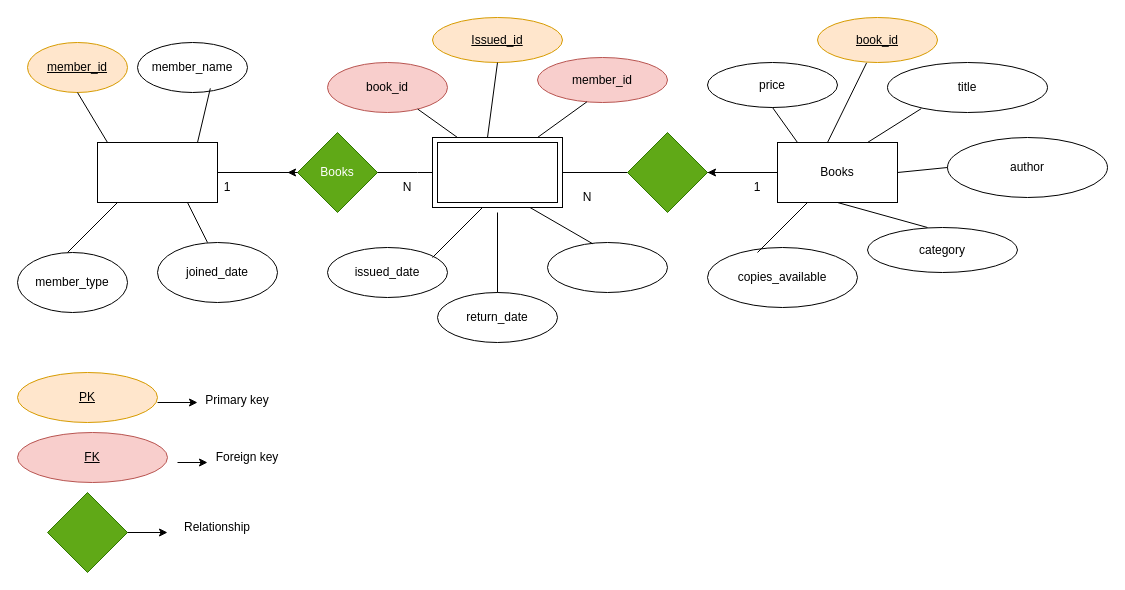
This 1125x590 diagram has some shape labels left out. The centre of each missing label's shape, as x and y in pixels:
"due_date" goes at point (607, 267).
"Issued to" goes at point (667, 172).
"Issues" goes at point (497, 172).
"Members" goes at point (157, 172).
